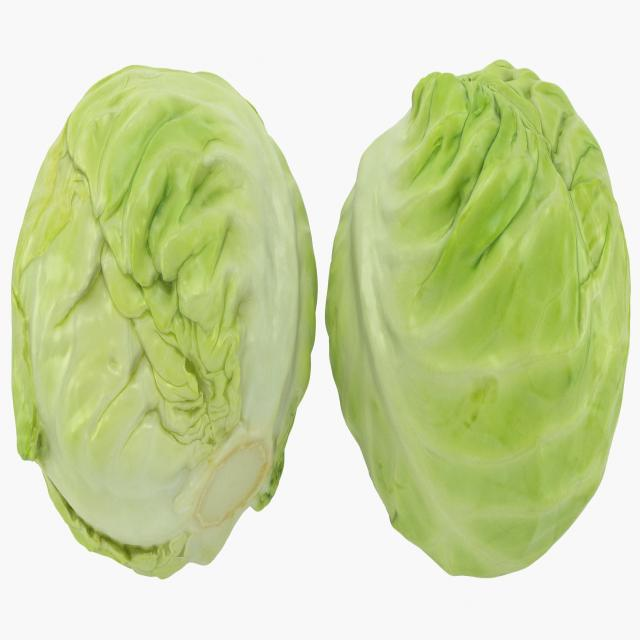cabbage: (9, 40, 317, 582), (322, 57, 633, 585)
